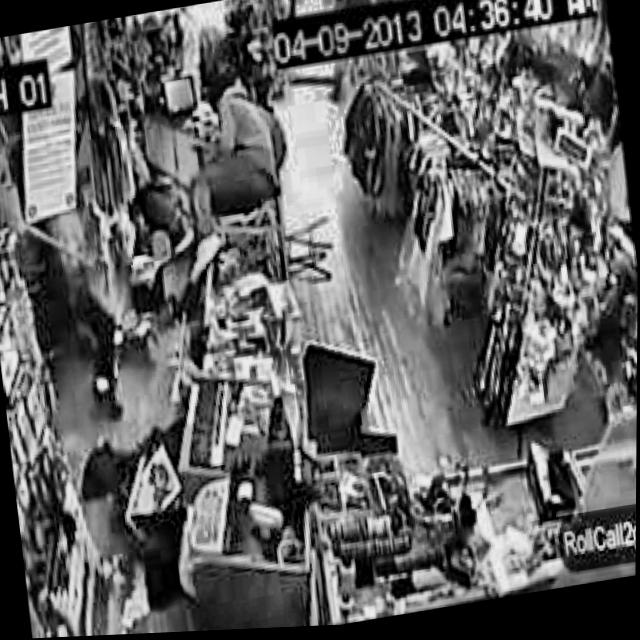robbery: (151, 72, 302, 290), (16, 202, 125, 291)
